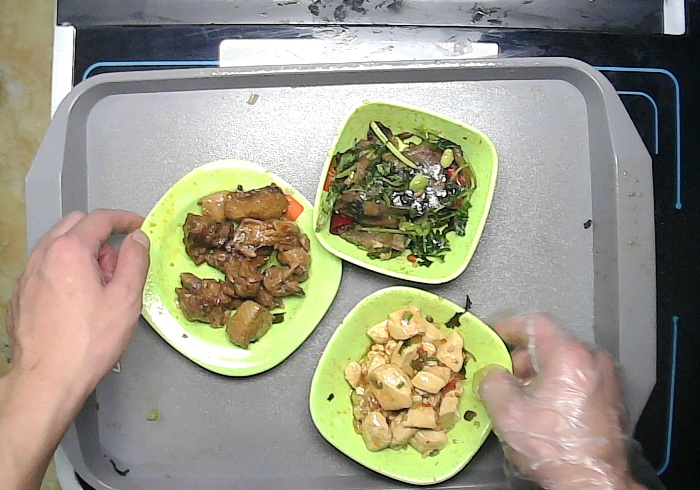SHKJ-Lv_Se_Cai_Die: (304, 281, 519, 490)
SHKJ-Lv_Se_Si_Fang_Cai_Die: (124, 153, 343, 380)
SHKJ-Lv_Se_Xiao_Fang_Die: (313, 98, 498, 286)
